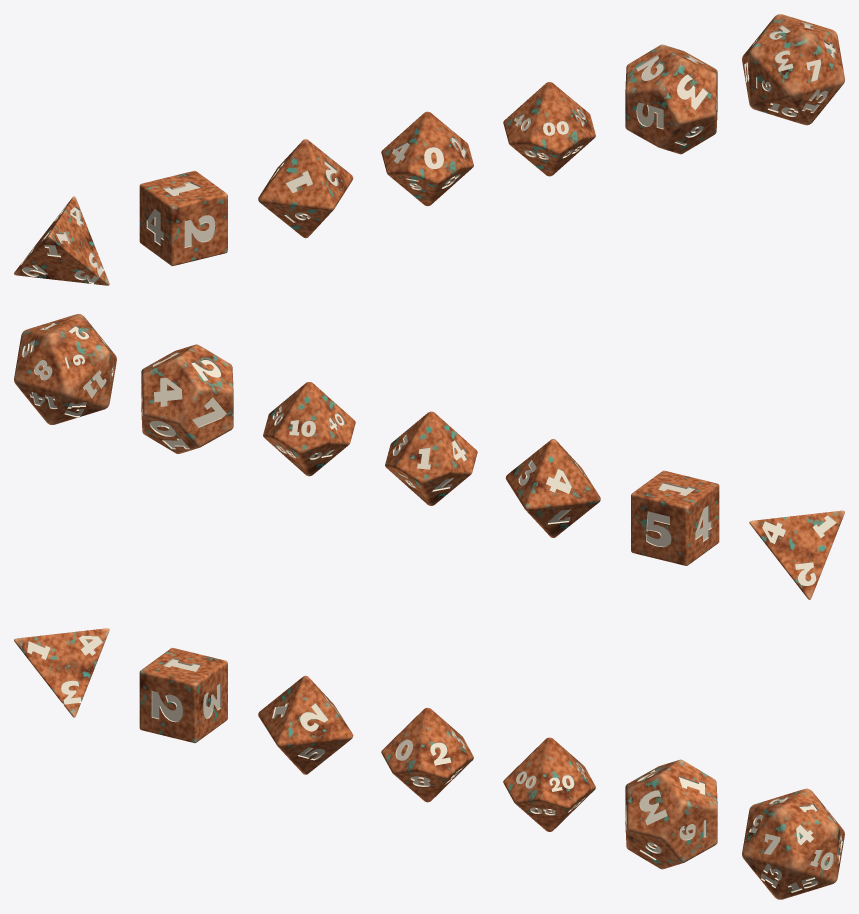
Rendered from copper.glb.
3 views of the same model, one above another, from view 1: azimuth 30°, elevation 25°; view 2: azimuth 150°, elevation 25°; view 3: azimuth 330°, elevation 25° (orthographic).
Visible parts, largest first — view 1: d20, d12, d6, d100, d10, d8, d4; view 2: d20, d12, d6, d100, d10, d8, d4; view 3: d20, d12, d6, d8, d100, d10, d4.
Boxes of the visible parts, x1,y1,x2,y2 form: d20: (742,14,844,125); d12: (625,44,717,154); d6: (139,170,227,266); d100: (503,82,595,176); d10: (381,111,473,206); d8: (258,139,353,238); d4: (14,196,109,285); d20: (14,314,116,424); d12: (141,344,233,453); d6: (631,470,719,565); d100: (263,382,355,476); d10: (385,411,477,505); d8: (505,439,600,537); d4: (749,510,844,599); d20: (742,788,844,899); d12: (625,759,717,869); d6: (139,647,227,743); d8: (258,675,353,774); d100: (503,737,595,831); d10: (381,707,473,802); d4: (14,628,109,717).
Bounding box in the file's own units: 21.14 × 2.47 × 2.47.
14 materials, 7 textured.
